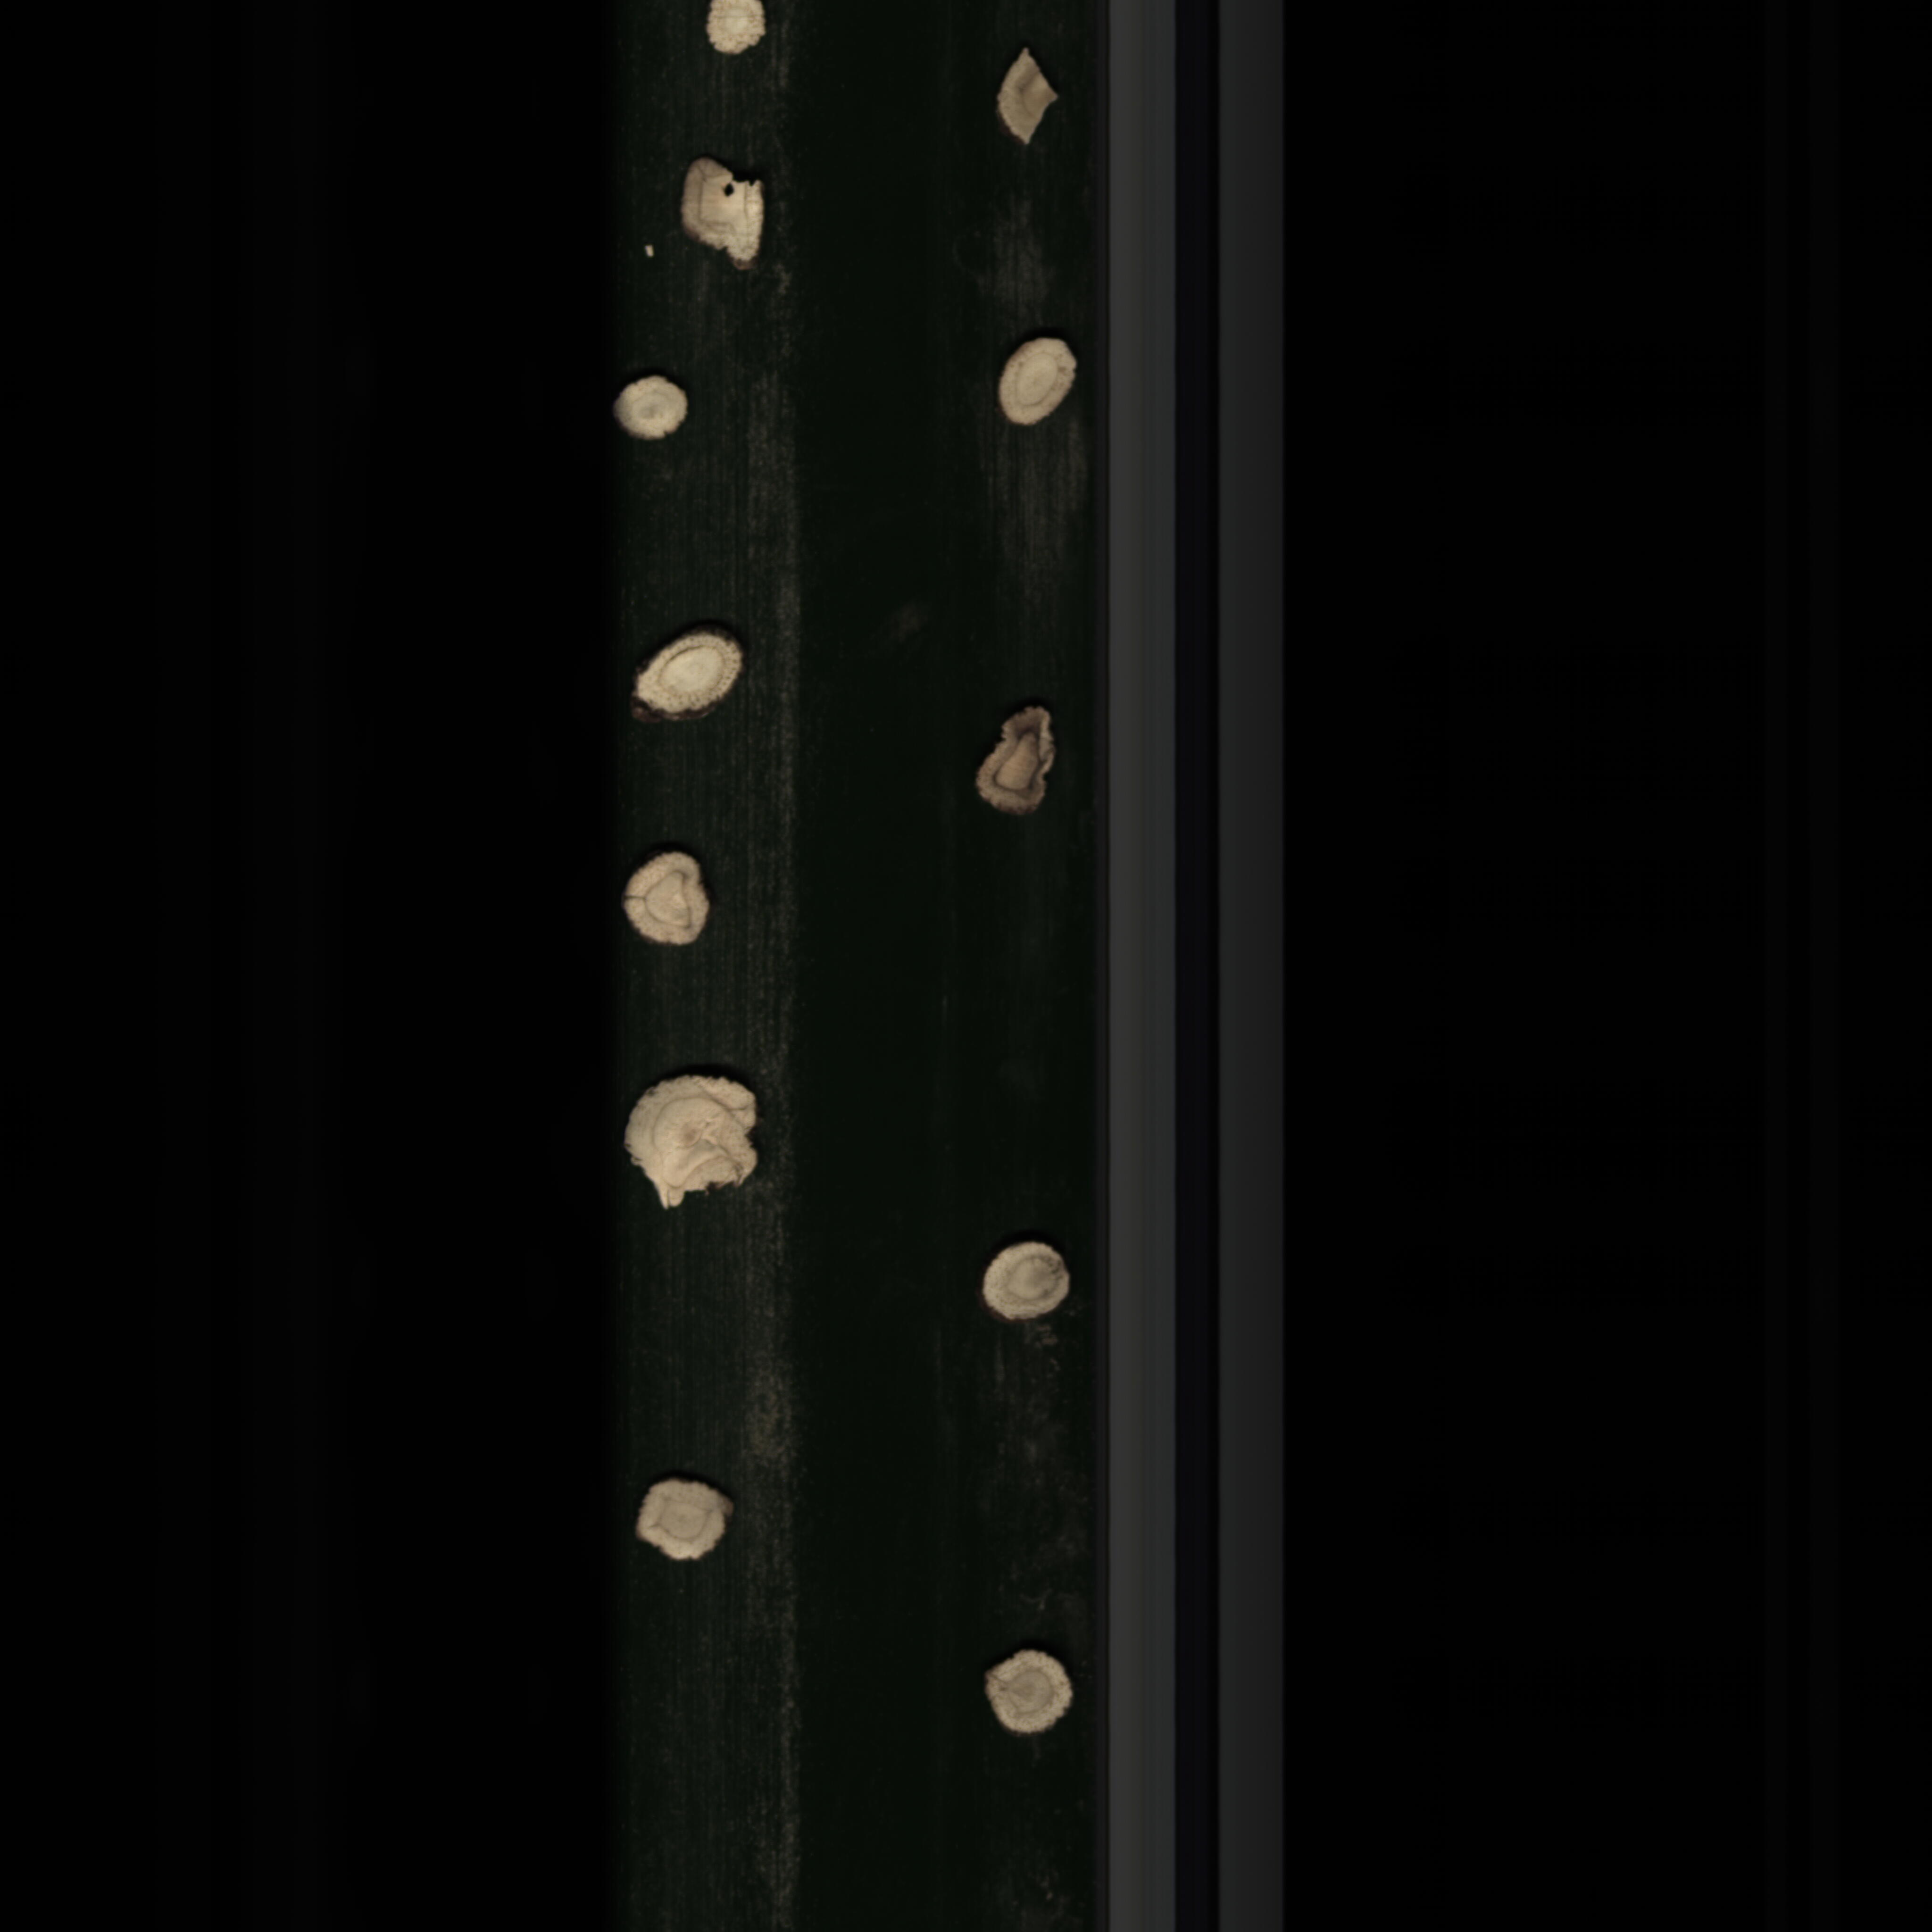debris: (663, 145, 784, 276), (987, 42, 1067, 150)
distortion: (605, 1067, 777, 1219)
moldy: (970, 704, 1067, 819)
